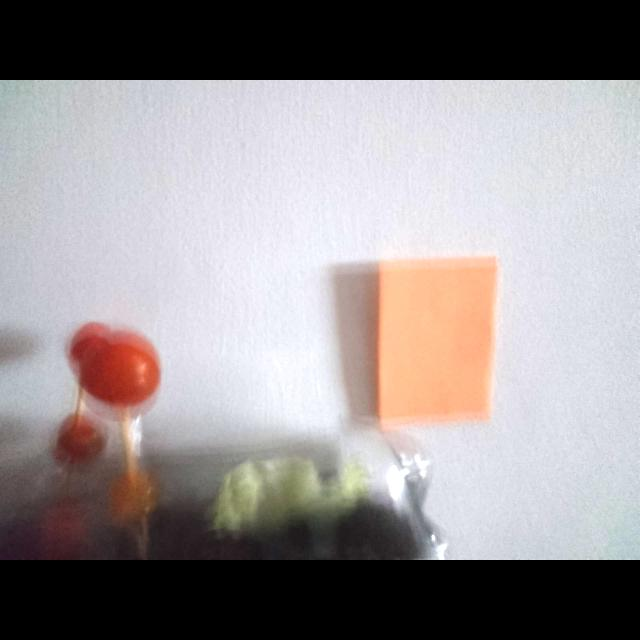card: (377, 257, 497, 423)
fruit_maturation: (110, 470, 156, 523)
fully_grown: (81, 334, 160, 407), (55, 415, 105, 463), (69, 322, 109, 366)
